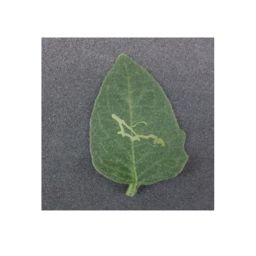liriomyza: (110, 113, 166, 148)
